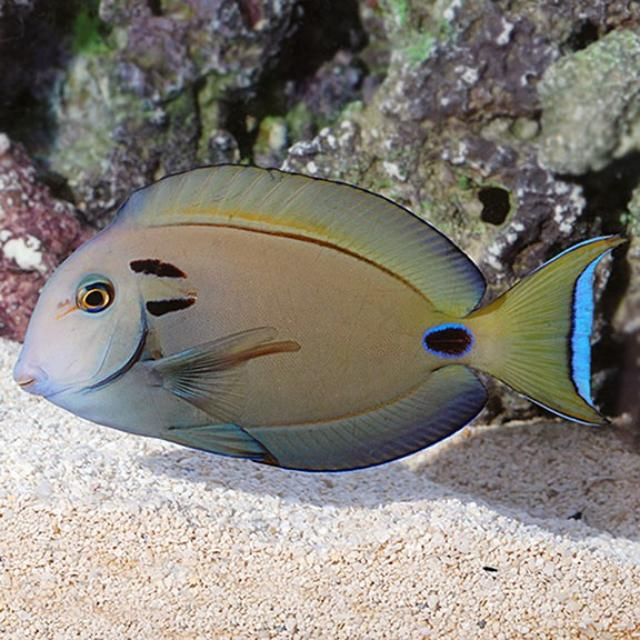Mulut: (0, 313, 68, 431)
Sirip Anal: (259, 351, 497, 495)
Sirip Dada: (113, 314, 293, 430)
Sirip Ekor: (482, 219, 630, 449)
Sirip Perut: (138, 414, 282, 498)
Sirip Punggung: (102, 148, 494, 332)
